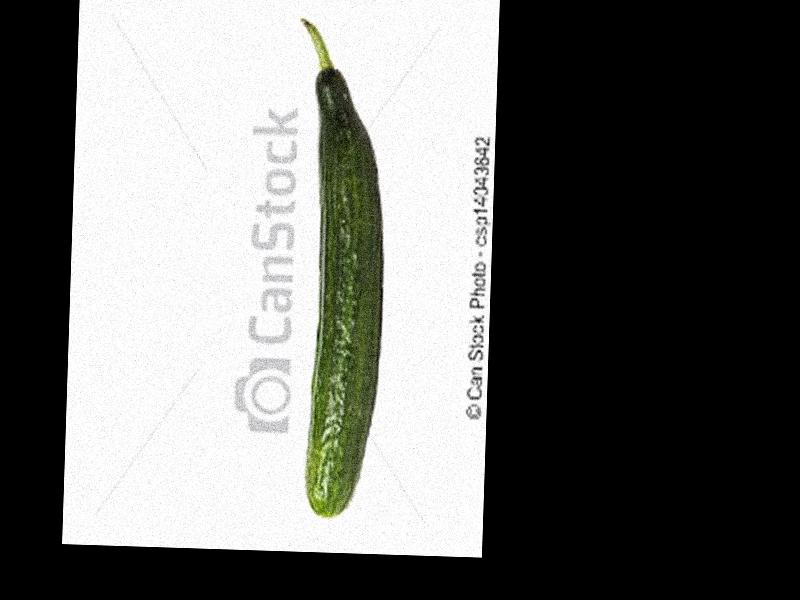Cucumber: (287, 15, 392, 516)
